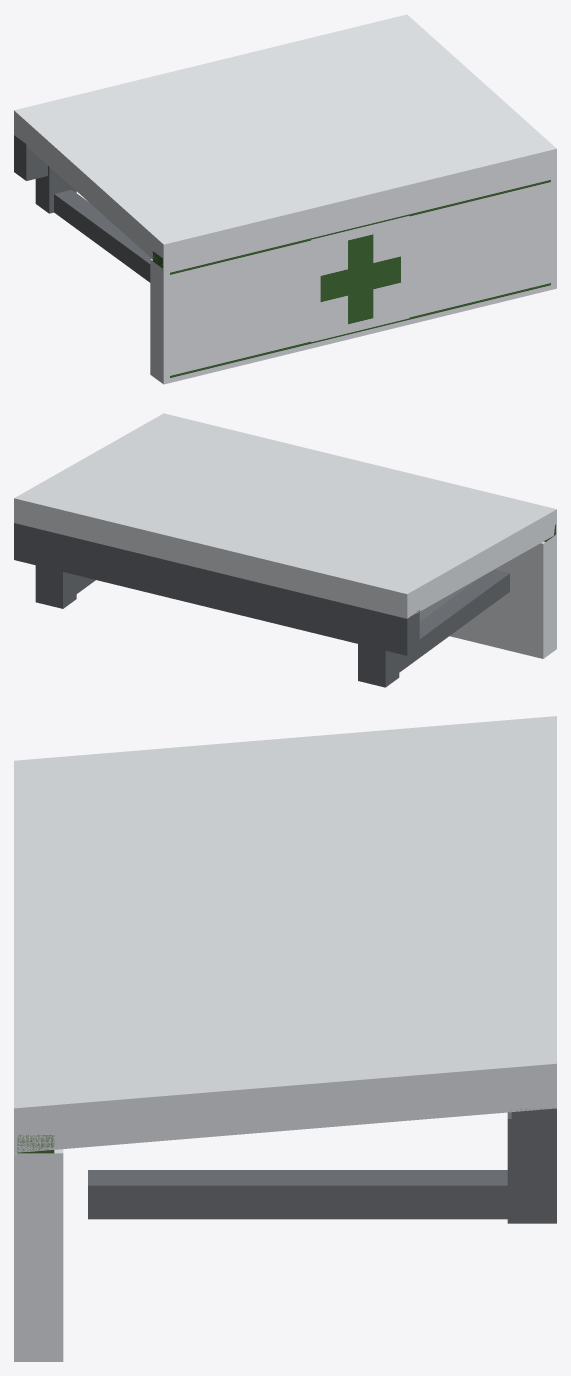
The model's file is building-business-pharmacy-compact.glb.
The picture shows the model from 3 angles, top to bottom: view 1: azimuth 30°, elevation 25°; view 2: azimuth 150°, elevation 25°; view 3: azimuth 270°, elevation 25°; orthographic projection. The views are drawn at different scales.
Visible parts, largest first — view 1: business-pharmacy-compact; view 2: business-pharmacy-compact; view 3: business-pharmacy-compact.
Part boxes in pixels (box(x1,y1,x2,y2)): business-pharmacy-compact: box(14, 14, 556, 384); business-pharmacy-compact: box(14, 413, 556, 687); business-pharmacy-compact: box(14, 716, 556, 1361).
Bounding box in the file's own units: 1 × 0.4 × 0.66.
4 materials, 1 textured.
